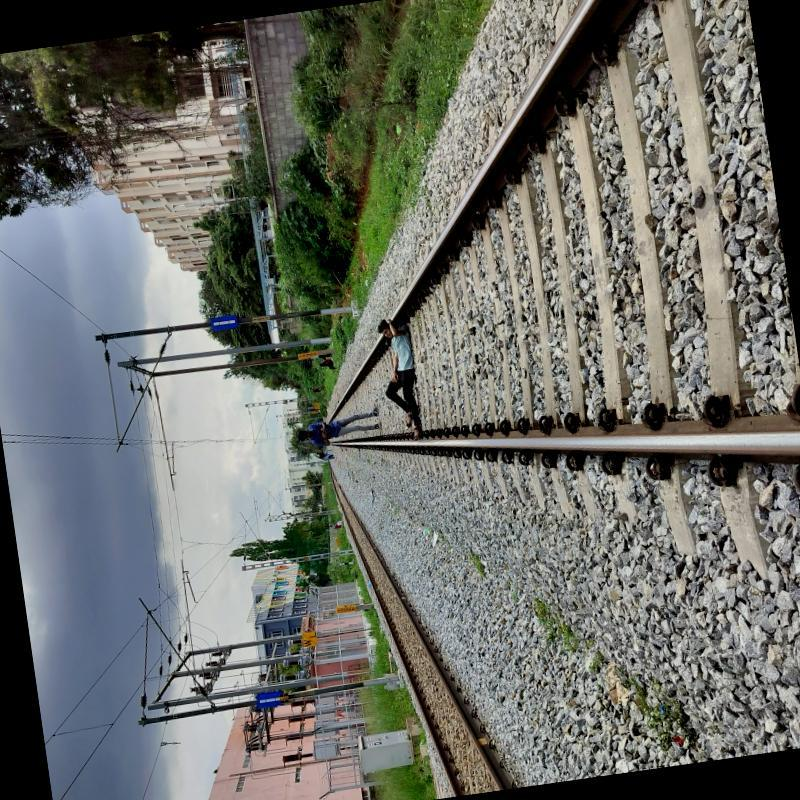sleeping: (376, 306, 427, 447)
